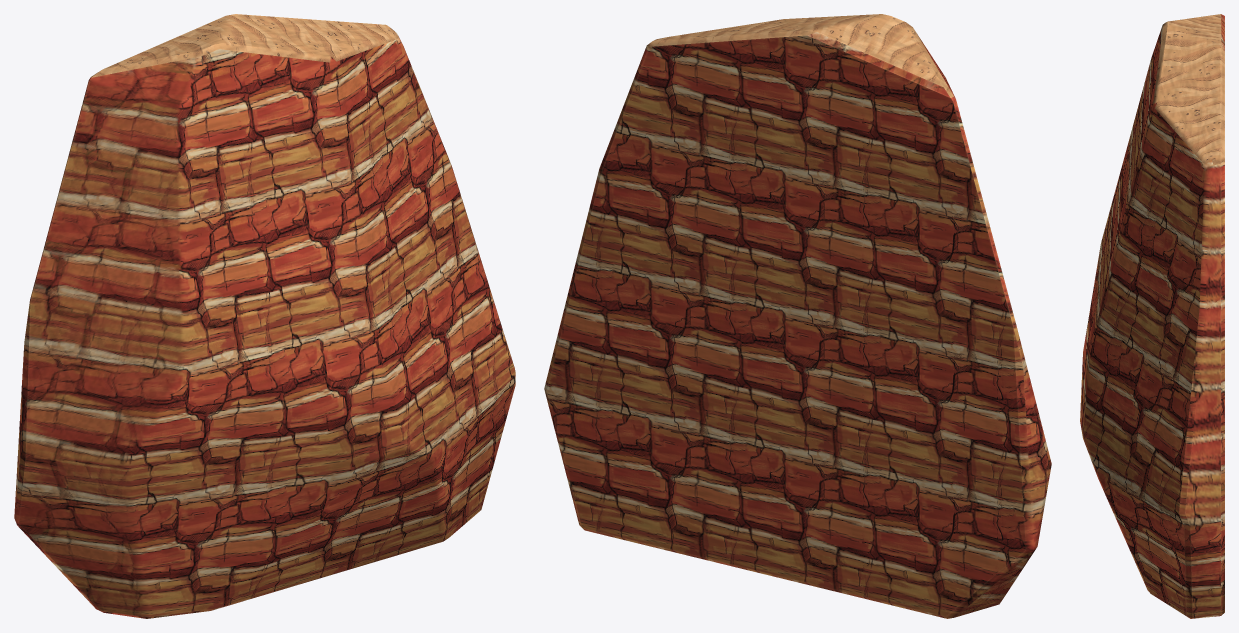
File: v4_cliff_e_02.glb
The picture shows the model from 3 angles, left to right: view 1: azimuth 30°, elevation 25°; view 2: azimuth 150°, elevation 25°; view 3: azimuth 270°, elevation 25°; orthographic projection. The views are drawn at different scales.
Visible parts, largest first — view 1: v4_cliff_e_02; view 2: v4_cliff_e_02; view 3: v4_cliff_e_02.
Boxes of the visible parts, bbox=[...] form: v4_cliff_e_02: bbox=[14, 14, 515, 618]; v4_cliff_e_02: bbox=[544, 14, 1051, 618]; v4_cliff_e_02: bbox=[1080, 14, 1224, 618].
Bounding box in the file's own units: 7.46 × 7.98 × 2.2.
Materials: 1 (1 with a texture image).
